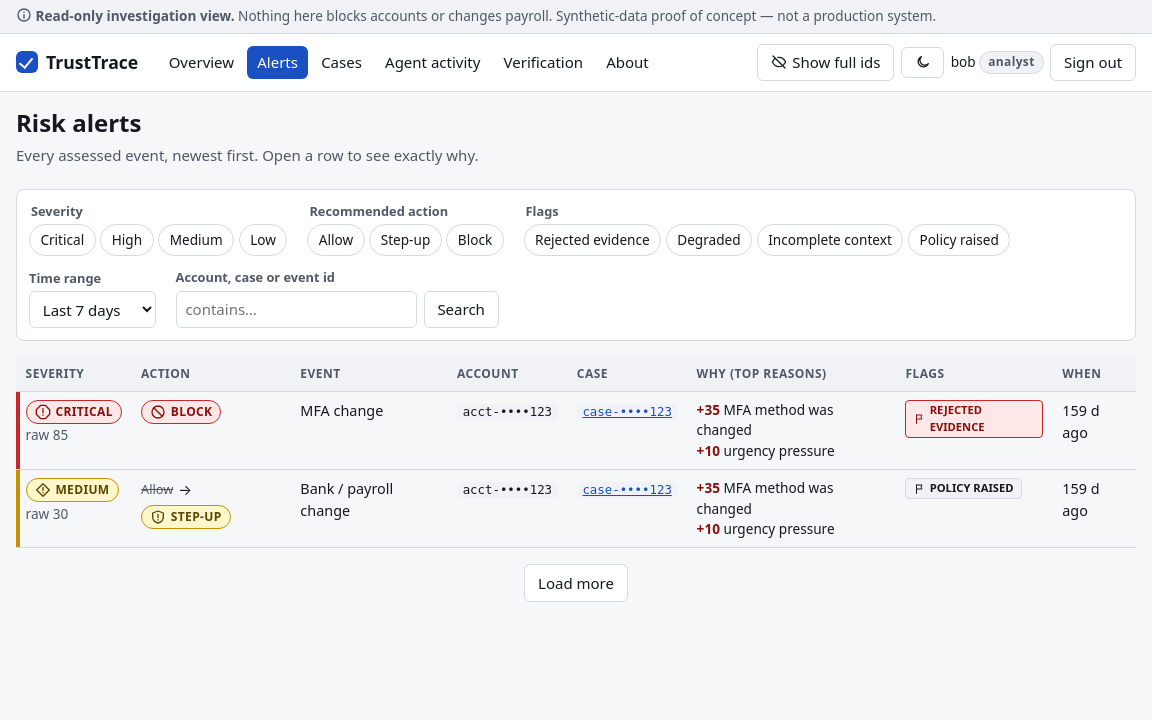
Test: alerts queue › Load more follows the cursor and appends (no duplicates)
Expected: the table is shown, [16,357,1136,548]
Click the button "Load more": {"x": 576, "y": 583} [524,564,628,602]
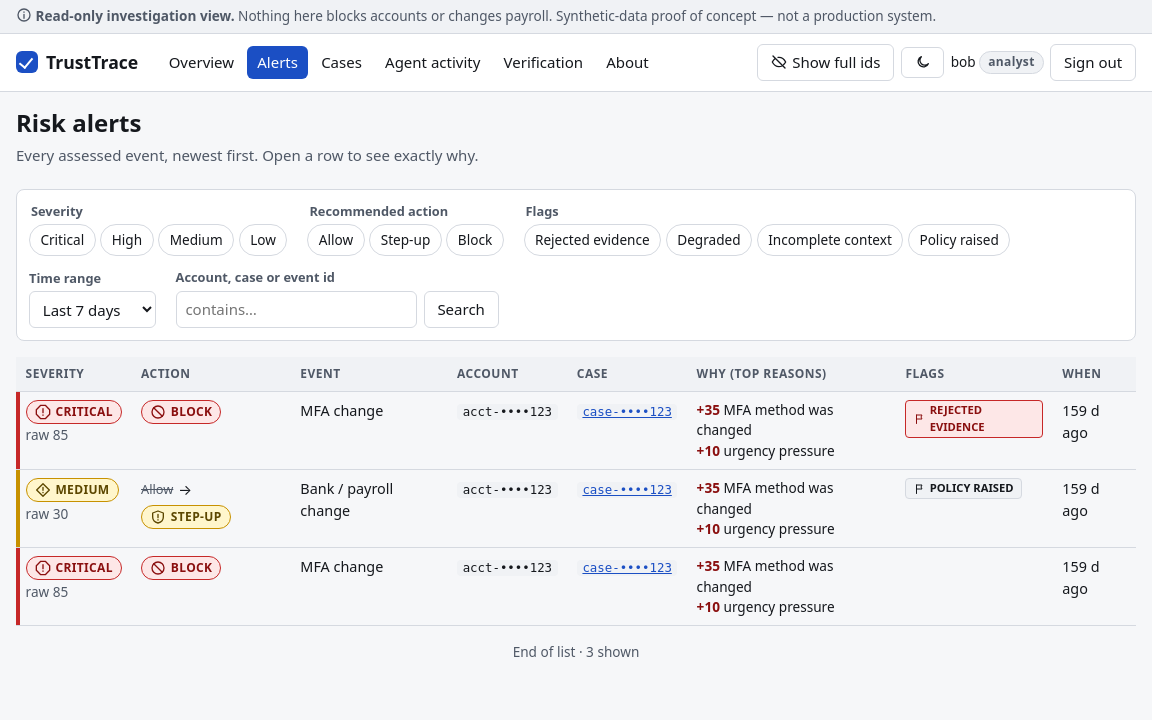
Expected: the text "End of list · 3 shown" is shown, [513,642,639,662]
